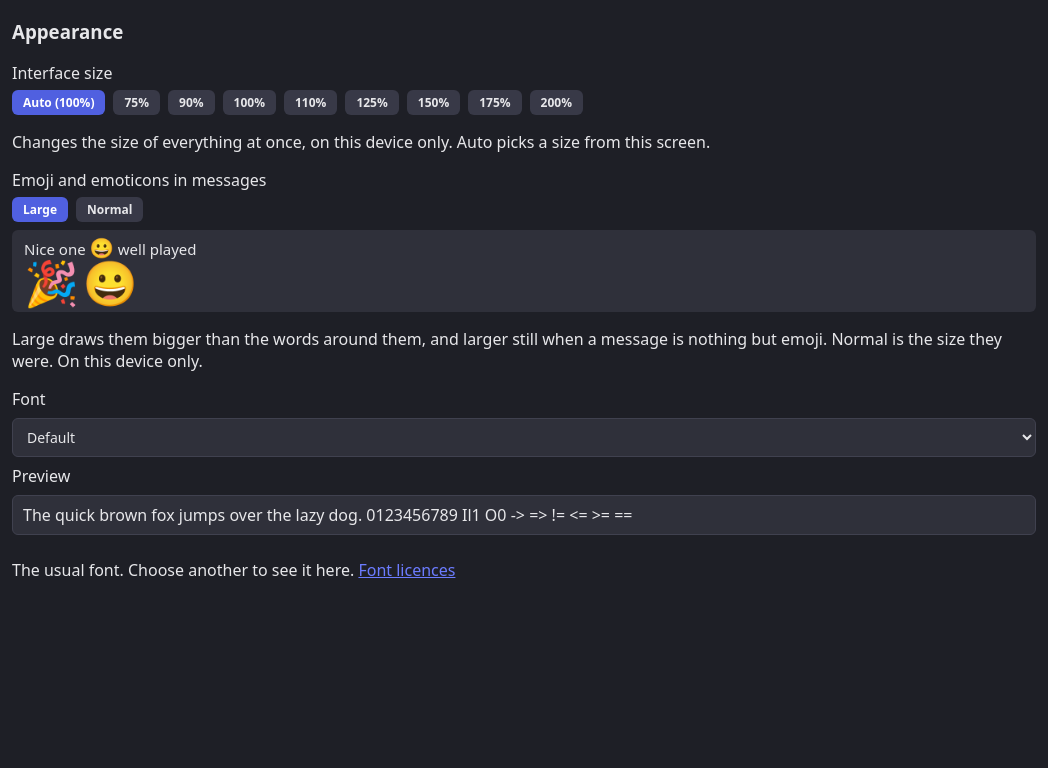
Settings -> Appearance -> Font › goes back to the usual font and removes the extra choices
This screenshot has width=1048, height=768.
Select "Fira Code" in the dropdown labelled "Font" at (524, 438), box [12, 418, 1036, 457]
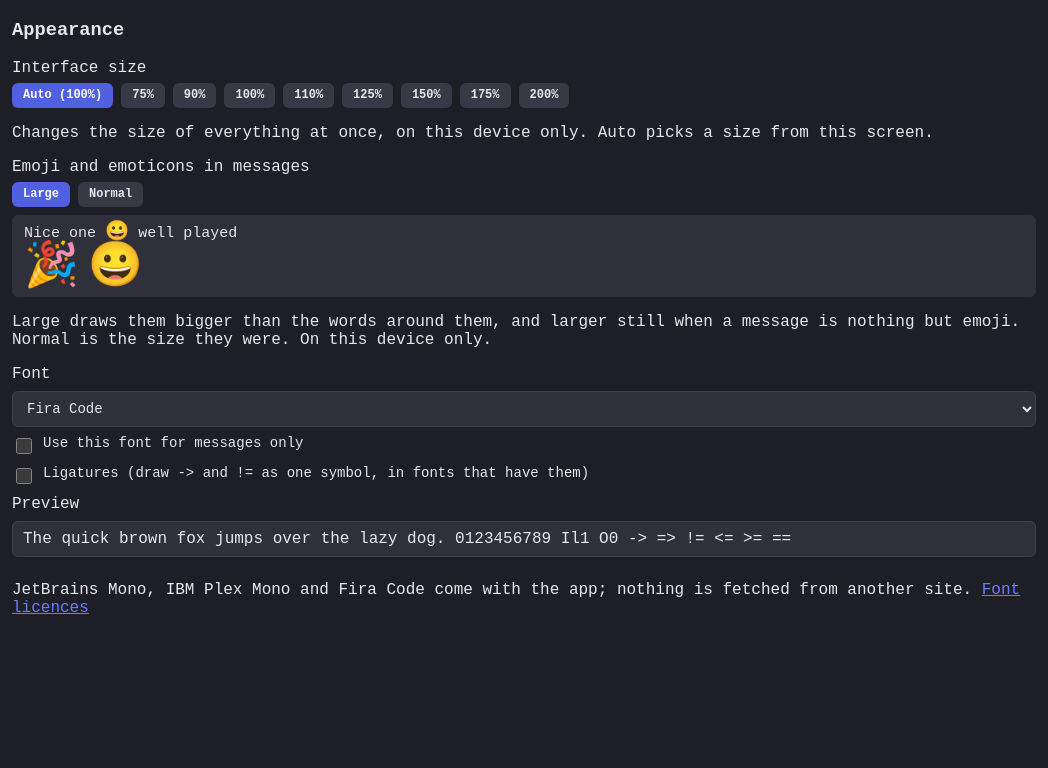
Select "Default" in the dropdown labelled "Font" at (524, 409), box [12, 391, 1036, 427]
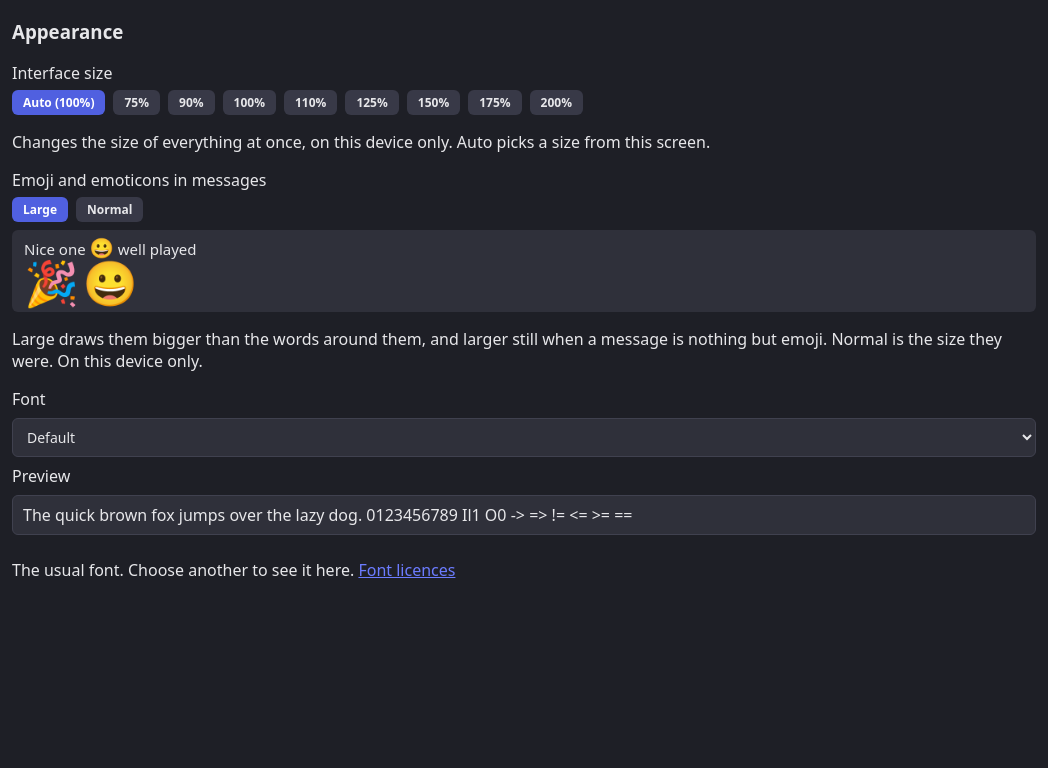
Check: the label labelled "Use this font for messages only" is gone
